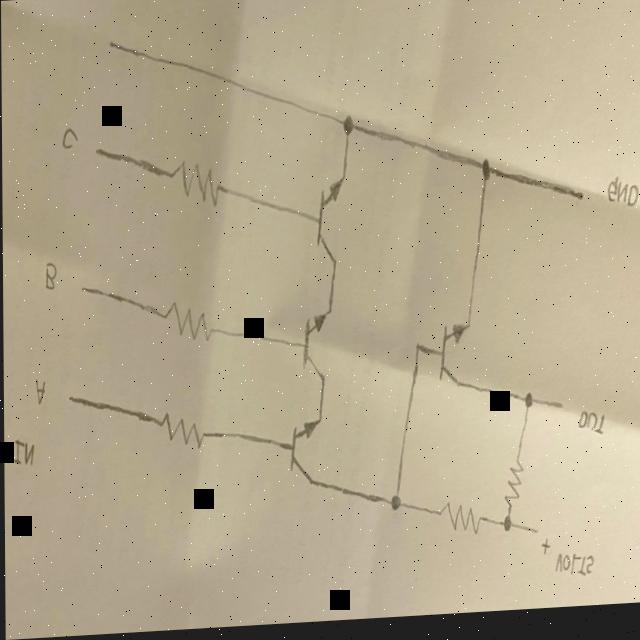junction: (335, 111, 361, 149), (383, 493, 408, 524), (475, 157, 495, 192), (497, 519, 515, 548), (520, 392, 536, 421)
resistor: (165, 156, 224, 216), (158, 301, 216, 350), (150, 410, 209, 457), (428, 500, 487, 546), (499, 462, 529, 517)
terminal: (106, 37, 116, 55), (555, 404, 565, 421), (575, 196, 585, 212), (531, 530, 538, 544), (78, 283, 86, 295), (92, 145, 99, 158), (65, 394, 72, 406)
text: (604, 180, 640, 218), (552, 556, 593, 586), (10, 434, 37, 472), (575, 415, 606, 446), (40, 259, 56, 298), (31, 373, 48, 409), (58, 126, 77, 155), (538, 542, 548, 567)
transistor: (302, 173, 356, 279), (291, 305, 348, 394), (280, 416, 336, 497), (431, 319, 485, 401)
